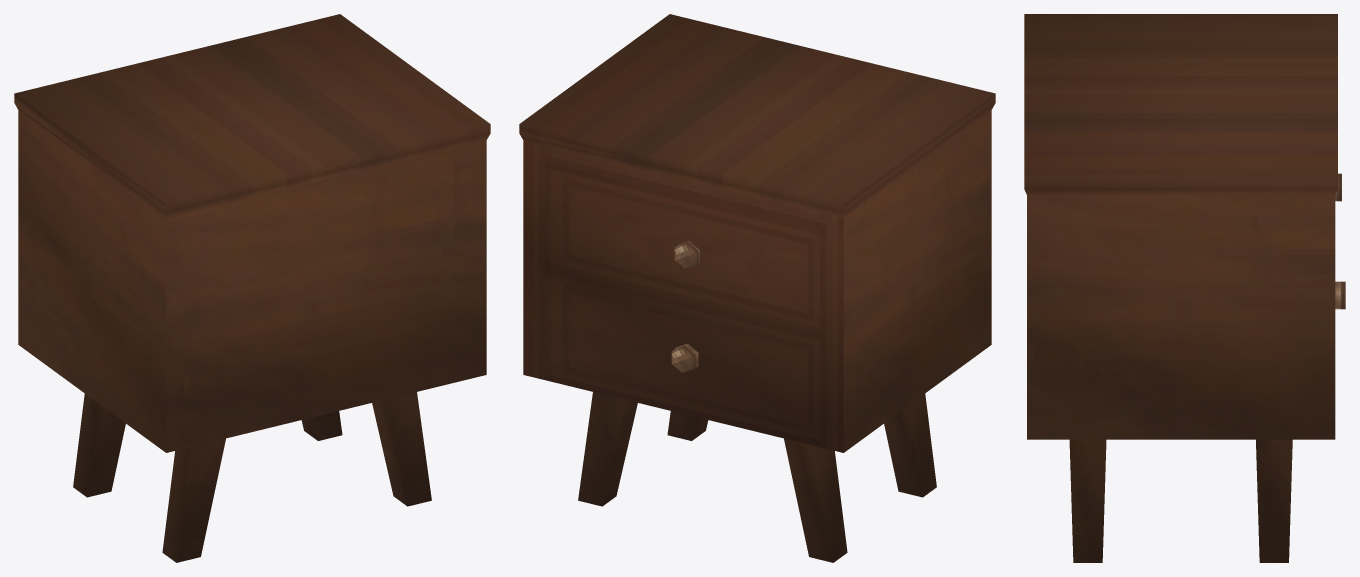
File: nightstand.glb
3 renders of one model, left to right at view 1: azimuth 30°, elevation 25°; view 2: azimuth 150°, elevation 25°; view 3: azimuth 270°, elevation 25°, orthographic. The views are drawn at different scales.
Parts seen in each view (by area): view 1: Nightstand; view 2: Nightstand; view 3: Nightstand.
Boxes of the visible parts, x1,y1,x2,y2 form: Nightstand: [14, 14, 490, 562]; Nightstand: [519, 14, 995, 562]; Nightstand: [1024, 14, 1345, 562].
Bounding box in the file's own units: 0.5085 × 0.5741 × 0.4167.
1 material, 1 textured.
